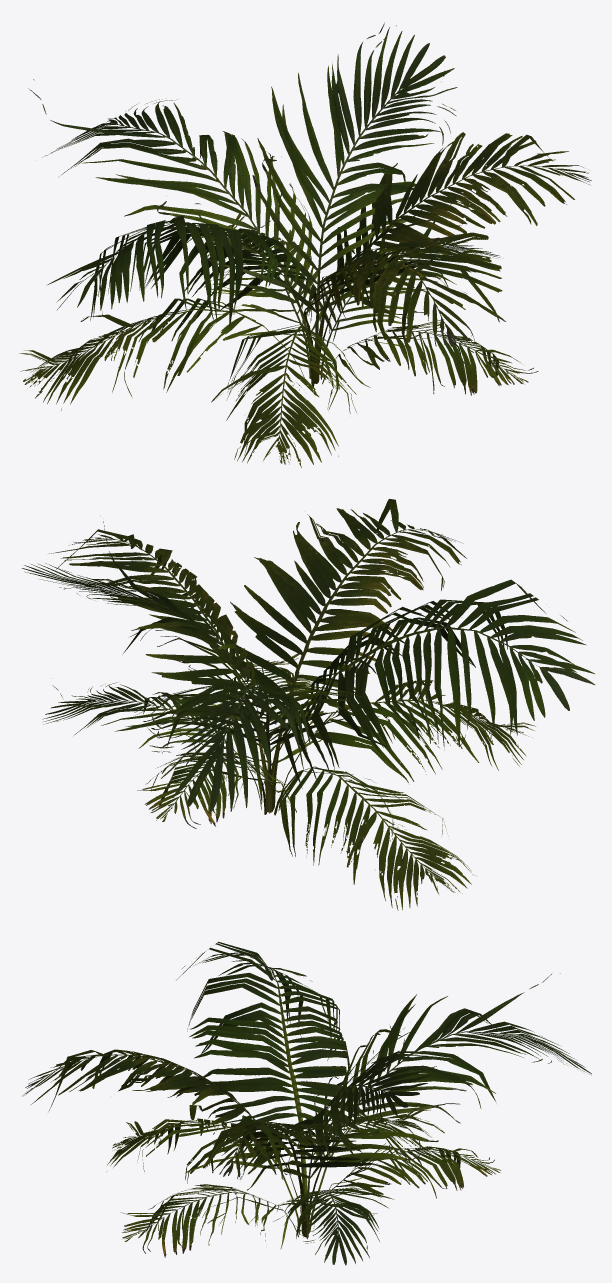
Rendered from QuixelPalmLeavesA.glb.
3 renders of one model, top to bottom at view 1: azimuth 30°, elevation 25°; view 2: azimuth 150°, elevation 25°; view 3: azimuth 270°, elevation 25°, orthographic. The views are drawn at different scales.
Visible parts, largest first — view 1: _4906_VarA_LOD2; view 2: _4906_VarA_LOD2; view 3: _4906_VarA_LOD2.
Boxes of the visible parts, box(x1,y1,x2,y2) form: _4906_VarA_LOD2: box(19, 22, 591, 467); _4906_VarA_LOD2: box(22, 499, 594, 910); _4906_VarA_LOD2: box(22, 941, 591, 1265).
Bounding box in the file's own units: 3.27 × 1.8 × 3.49.
Materials: 1 (1 with a texture image).
